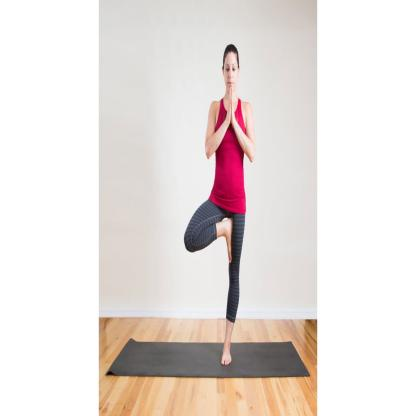tree: (181, 40, 260, 369)
